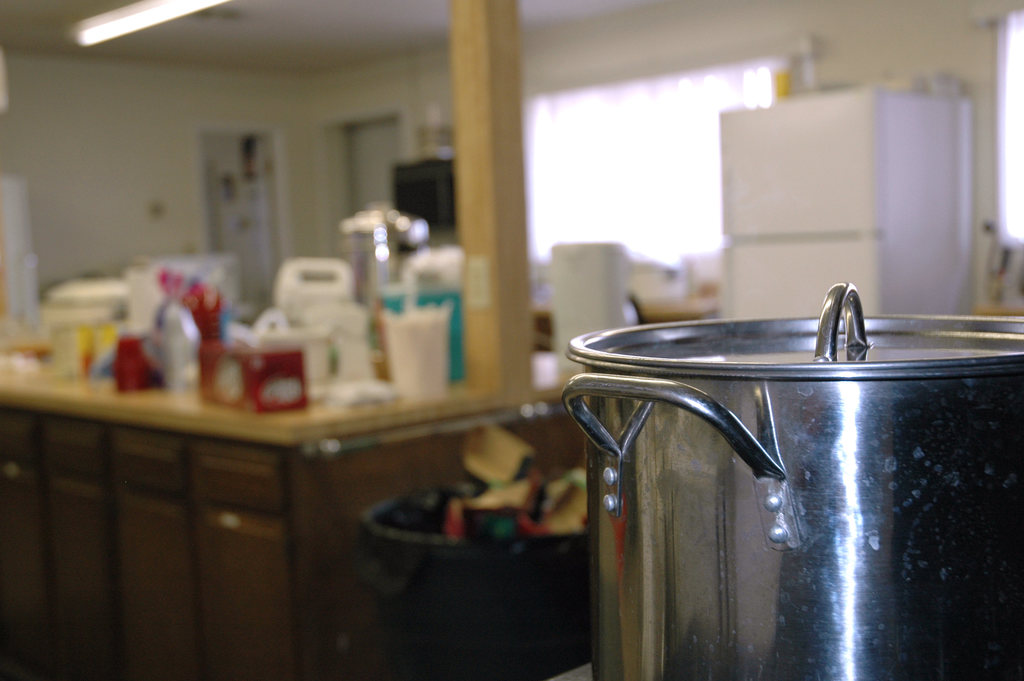Cabinetry: (194, 436, 375, 680), (43, 400, 140, 676), (125, 423, 225, 676), (0, 383, 59, 680)
